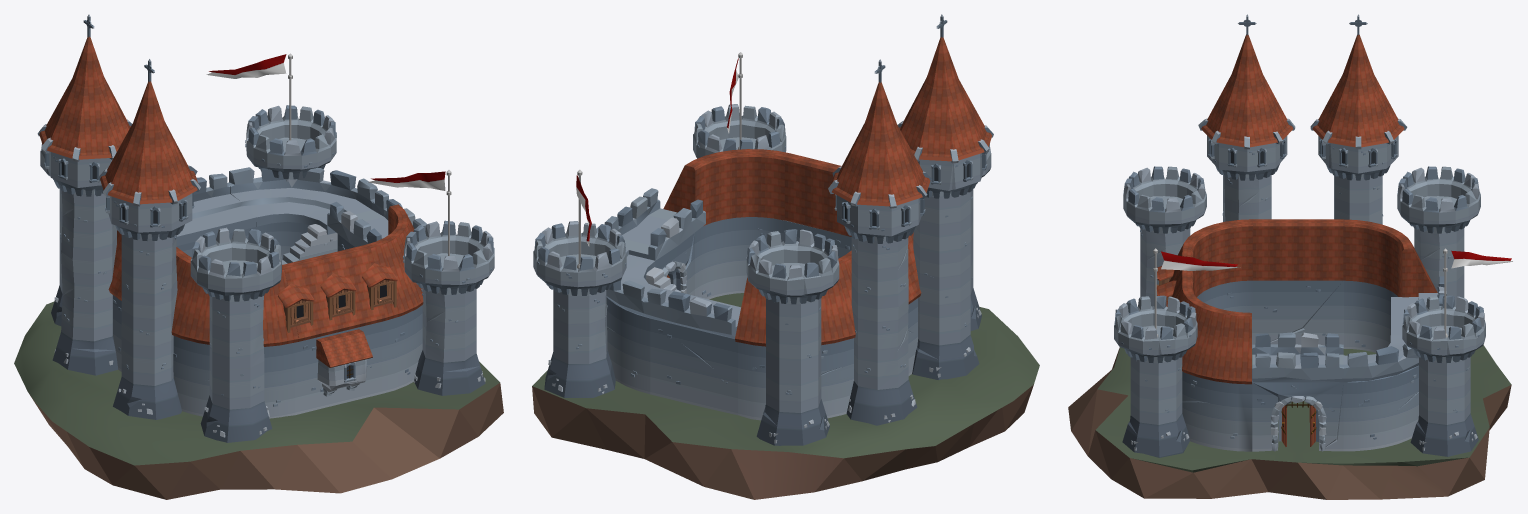
Rendered from Castle.fbx.
3 renders of one model, left to right at view 1: azimuth 30°, elevation 25°; view 2: azimuth 150°, elevation 25°; view 3: azimuth 270°, elevation 25°, orthographic. The views are drawn at different scales.
Parts seen in each view (by area): view 1: Castle, flag-second, flag; view 2: Castle; view 3: Castle, flag, flag-second.
Boxes of the visible parts, left/top/right/bottom form: Castle: left=14, top=14, right=503, bottom=499; flag-second: left=206, top=54, right=286, bottom=78; flag: left=368, top=171, right=445, bottom=190; Castle: left=532, top=14, right=1039, bottom=499; Castle: left=1068, top=14, right=1511, bottom=499; flag: left=1161, top=251, right=1240, bottom=270; flag-second: left=1451, top=250, right=1512, bottom=268.
Size of the model in its own units: 2722 by 2678 by 2992.
